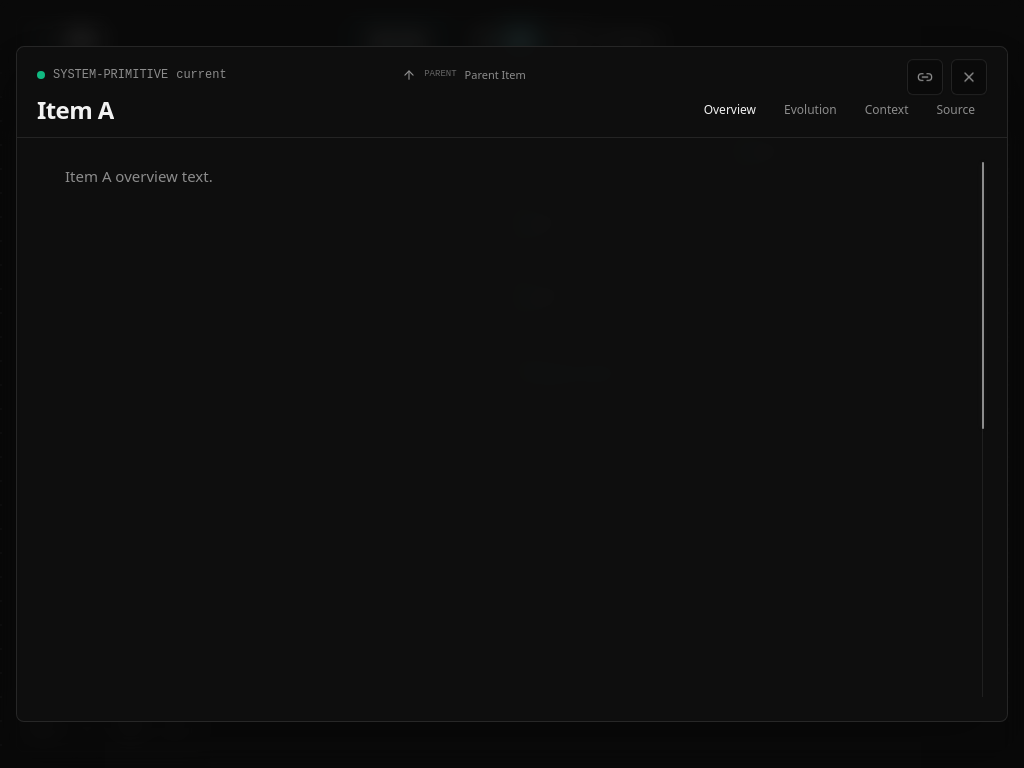
Test: PlanWorkstreamExplorer › opens a new full-detail item on overview and restores the previous item tab when returning
The width and height of the screenshot is (1024, 768).
Expected: the navigation bar named "Detail sections" is shown, x1=692 y1=96 x2=987 y2=124
Expected: the text "Item A overview text." is shown, x1=65 y1=166 x2=213 y2=186
Click the link "evolution" at (810, 110), box x1=784 y1=101 x2=837 y2=118
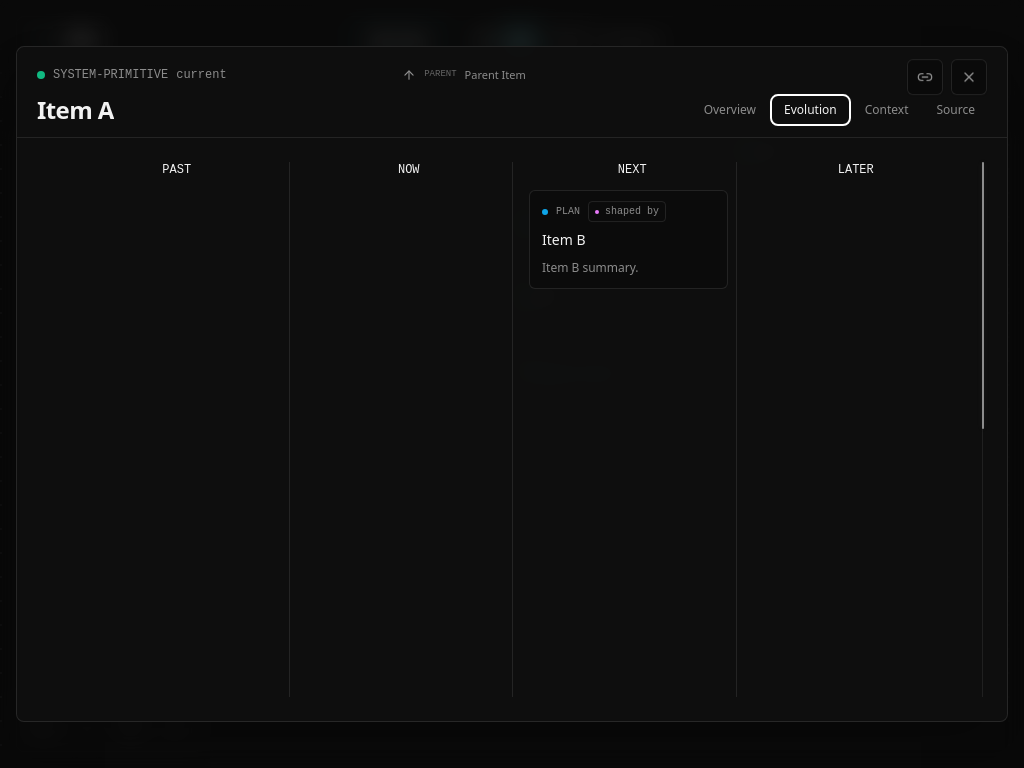
Now the text "Item A overview text." is gone
Click the link "context" at (887, 110), box x1=865 y1=101 x2=908 y2=118
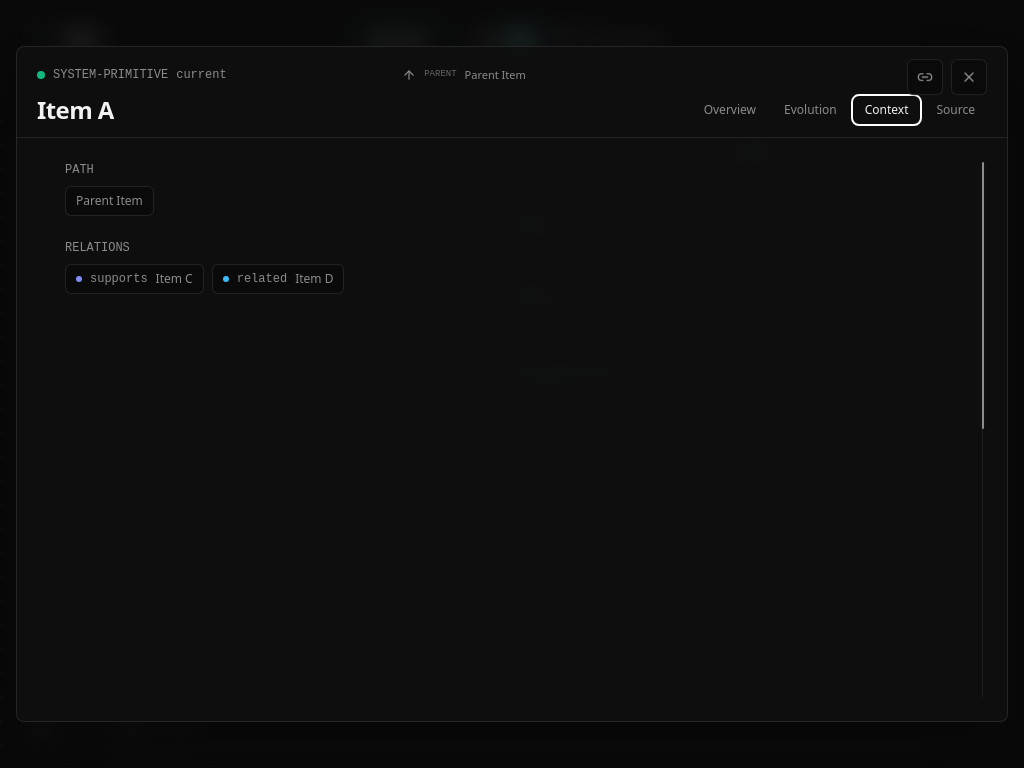
Now the number of buttons "Parent Item" is 1, box x1=65 y1=186 x2=154 y2=216
Now the button "supports Item C" is shown, box x1=65 y1=264 x2=204 y2=294
Now the button "related Item D" is shown, box x1=212 y1=264 x2=344 y2=294
Click the link "evolution" at (810, 110), box x1=784 y1=101 x2=837 y2=118
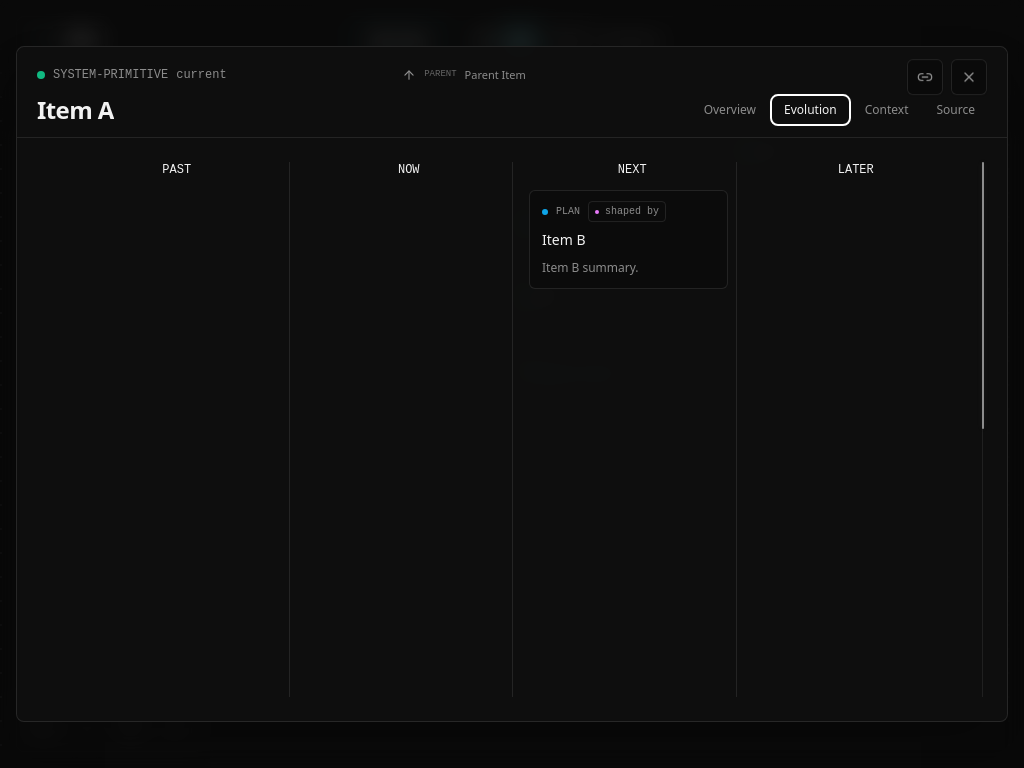
Click the button "Item B" at (628, 240), box x1=542 y1=230 x2=714 y2=250
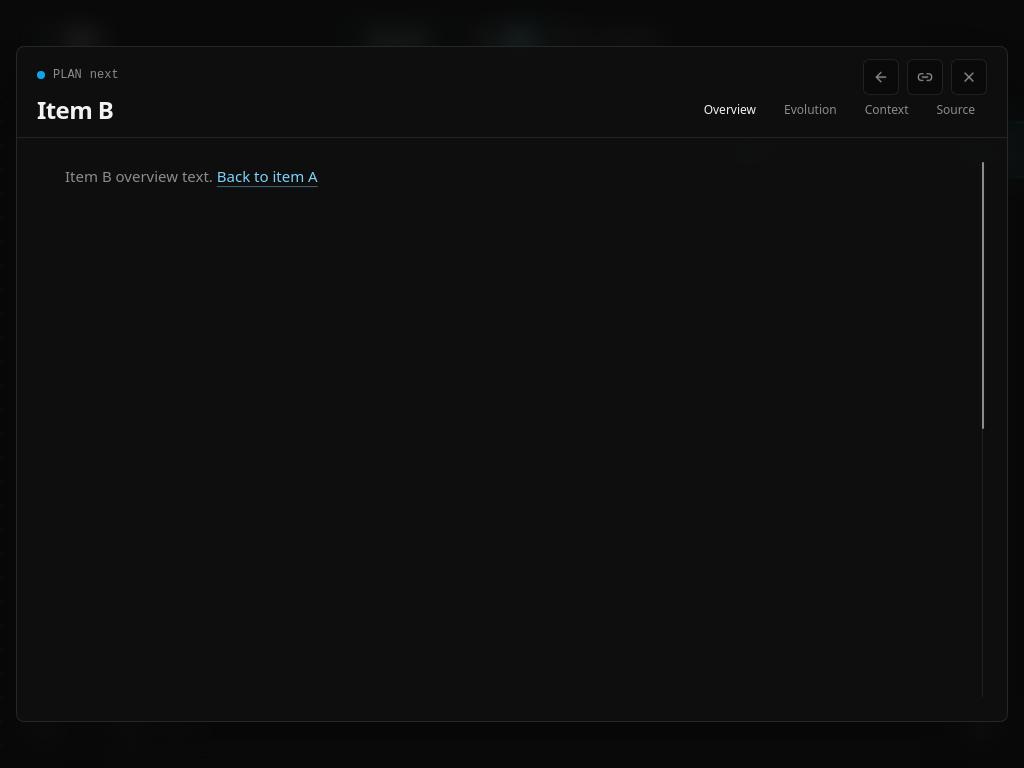
Now the text "Item B overview text. Back to item A" is shown, box x1=65 y1=162 x2=318 y2=190
Click the button "Back to item A" at (267, 176), box x1=217 y1=162 x2=318 y2=190
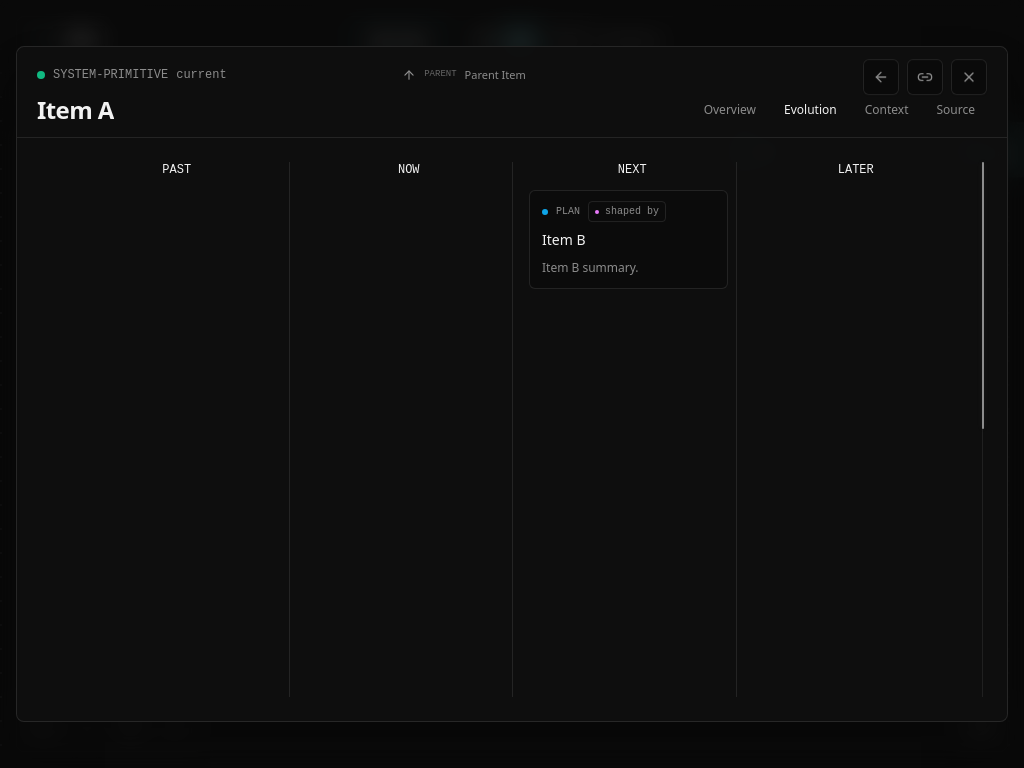
Expected: the text "Item A overview text." is not shown
Now the text "Item B summary." is shown, box x1=542 y1=259 x2=639 y2=276
